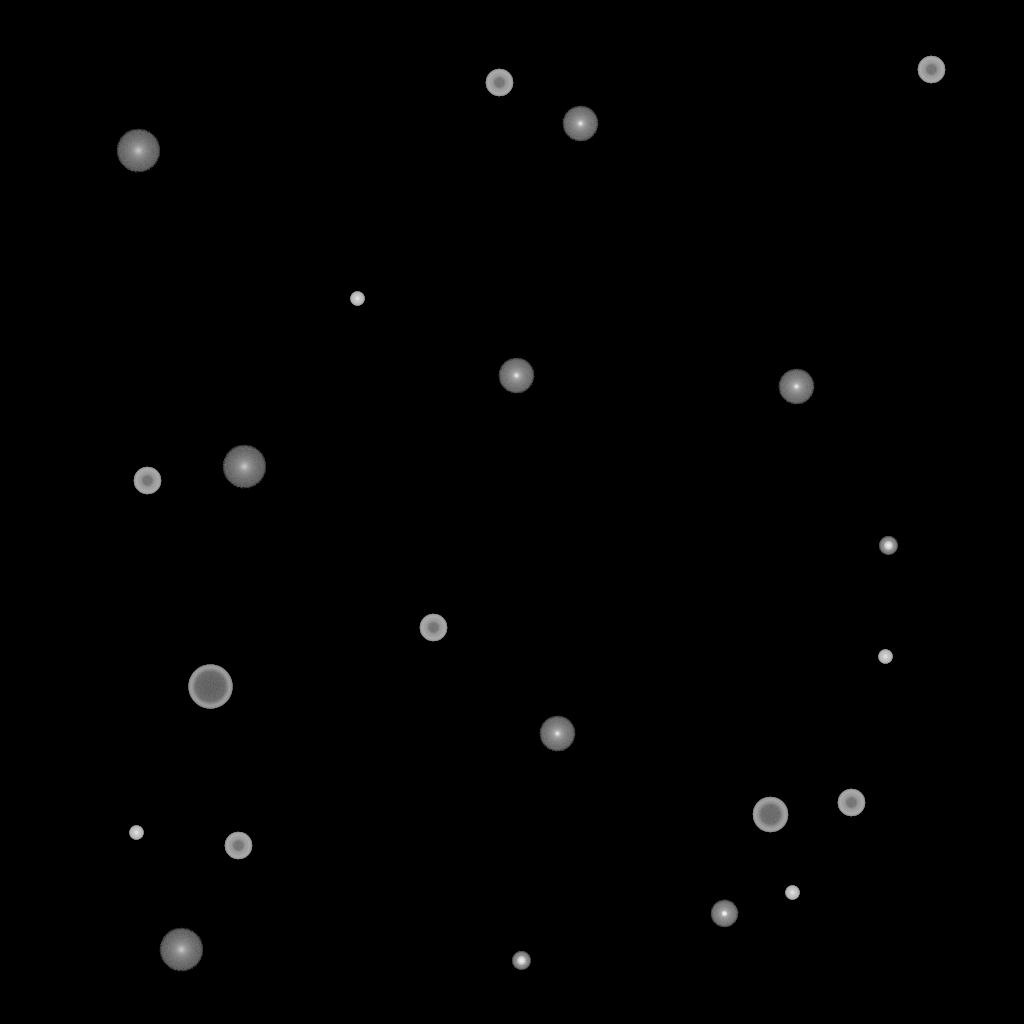depth:-10: (710, 900, 738, 928)
depth:-20: (879, 537, 897, 555), (512, 952, 530, 970)
depth:-30: (350, 292, 364, 306), (129, 826, 143, 840), (785, 886, 799, 900), (878, 650, 892, 664)
depth:-50: (837, 789, 865, 817), (224, 832, 252, 860), (917, 56, 945, 84), (485, 69, 513, 97), (133, 467, 161, 495), (419, 614, 447, 642)
depth:-60: (752, 797, 788, 833)
depth:-70: (188, 665, 232, 709)
depth:0: (562, 106, 598, 142), (778, 369, 814, 405), (539, 716, 575, 752), (498, 358, 534, 394)
depth:10: (159, 928, 203, 972), (116, 129, 160, 173), (222, 445, 266, 489)
